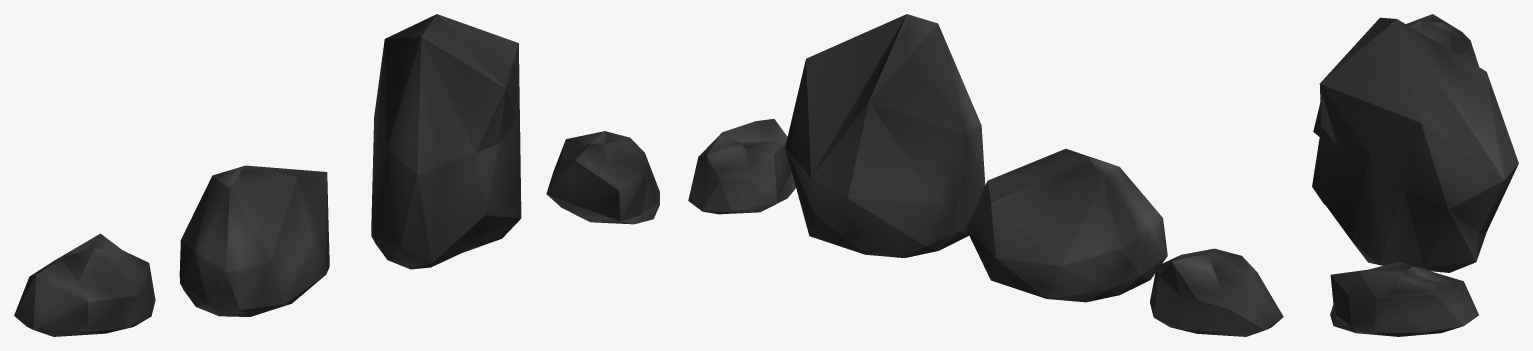
Rendered from rocks.dae.
3 renders of one model, left to right at view 1: azimuth 30°, elevation 25°; view 2: azimuth 150°, elevation 25°; view 3: azimuth 270°, elevation 25°, orthographic. The views are drawn at different scales.
Parts seen in each view (by area): view 1: rock.001, rock, rock.002, rock.003; view 2: rock.001, rock, rock.002, rock.003; view 3: rock.001, rock.003, rock.002, rock.
Boxes of the visible parts, x1,y1,x2,y2 form: rock.001: [371, 14, 521, 269]; rock: [179, 165, 329, 316]; rock.002: [14, 233, 155, 336]; rock.003: [546, 131, 659, 224]; rock.001: [785, 14, 985, 257]; rock: [966, 148, 1167, 302]; rock.002: [1150, 248, 1283, 336]; rock.003: [688, 119, 795, 214]; rock.001: [1312, 17, 1518, 272]; rock.003: [1330, 261, 1478, 336]; rock.002: [1406, 14, 1478, 66]; rock: [1313, 28, 1413, 136].
Size of the model in its own units: 22.41 by 6.75 by 8.46.
Materials: 1 (1 with a texture image).
